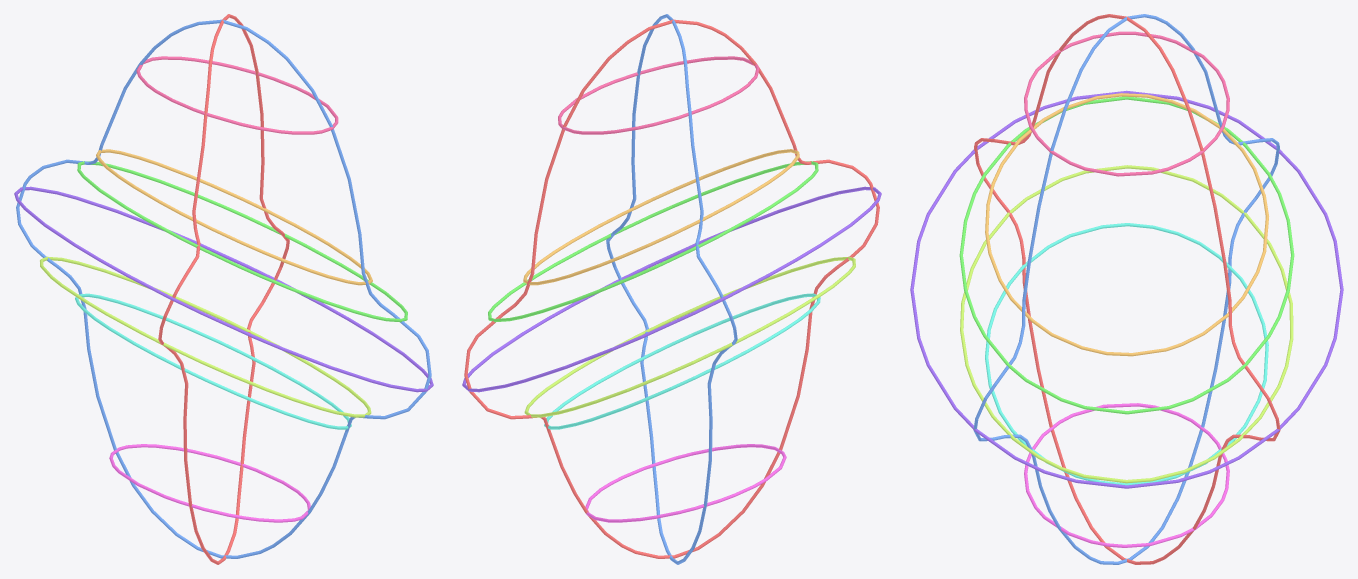
The model's file is flowrep_ellipsetorus.gltf.
3 views of the same model, side by side, from view 1: azimuth 30°, elevation 25°; view 2: azimuth 150°, elevation 25°; view 3: azimuth 270°, elevation 25° (orthographic).
Size of the model in its own units: 0.4971 by 0.71 by 0.5123.
